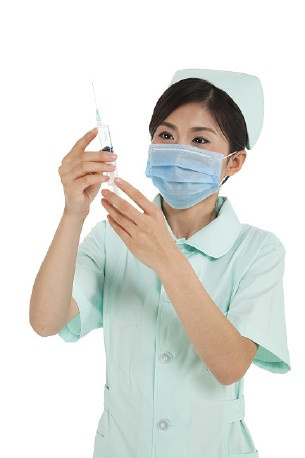Mask: (144, 116, 237, 209)
